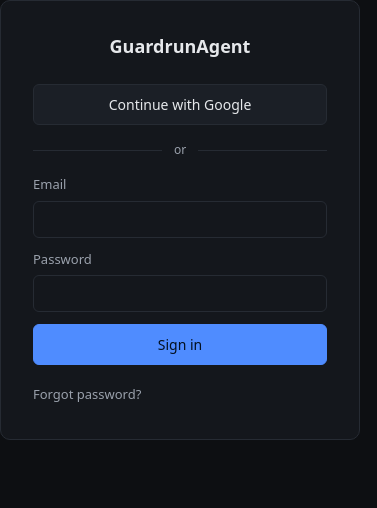
Test: password-reset visibility › requires an email before sending a reset link
Click the button "Forgot password?" at point(87, 394), box [33, 381, 327, 407]
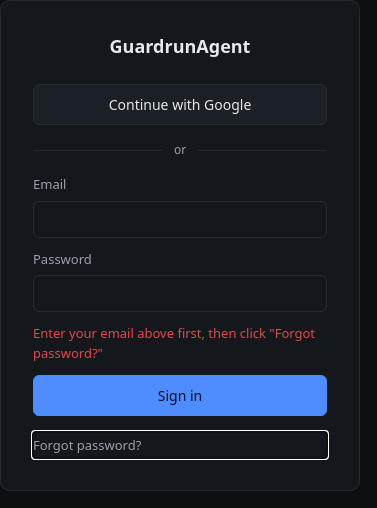
Check: the text "Enter your email above first, then click \"Forgot password?\"" is shown, box [33, 324, 327, 363]
